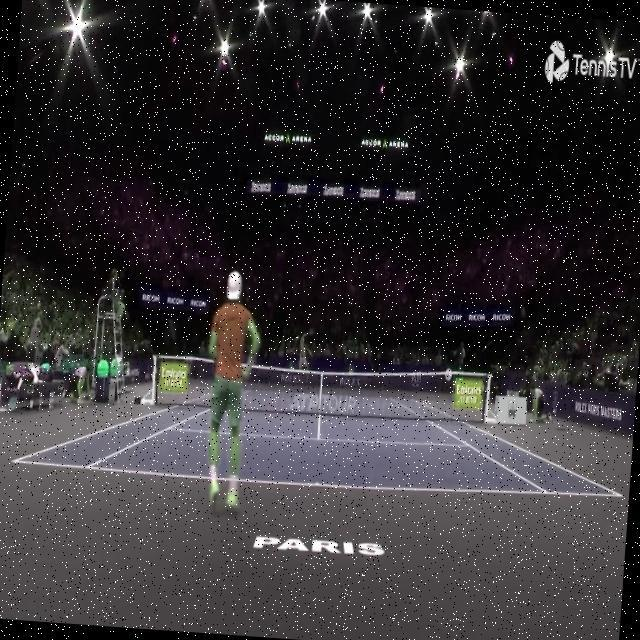court: (9, 368, 630, 509)
net: (150, 348, 492, 426)
player: (197, 264, 265, 519)
